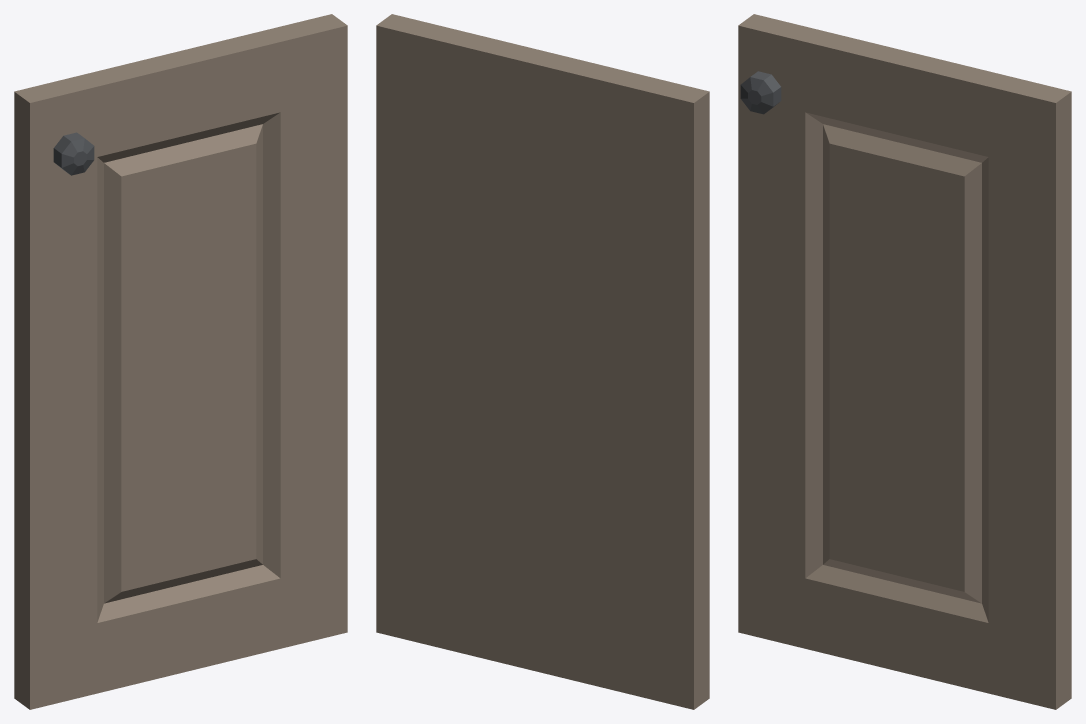
File: Door3_C5_09.fbx
3 views of the same model, side by side, from view 1: azimuth 30°, elevation 25°; view 2: azimuth 150°, elevation 25°; view 3: azimuth 330°, elevation 25° (orthographic).
Visible parts, largest first — view 1: Door3_C5_09; view 2: Door3_C5_09; view 3: Door3_C5_09.
Part boxes in pixels (x1=…): Door3_C5_09: x1=14, y1=14, x2=347, y2=709; Door3_C5_09: x1=376, y1=14, x2=709, y2=709; Door3_C5_09: x1=738, y1=14, x2=1071, y2=709.
Size of the model in its own units: 29 by 52.92 by 5.19.
